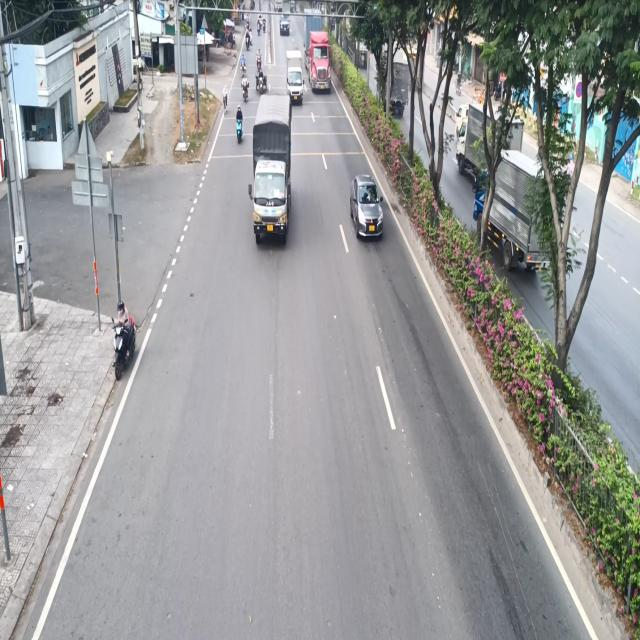car: (350, 171, 388, 241)
motor: (114, 300, 137, 378), (235, 100, 245, 141)
truck: (250, 96, 295, 246), (304, 10, 334, 96), (284, 42, 304, 99)
